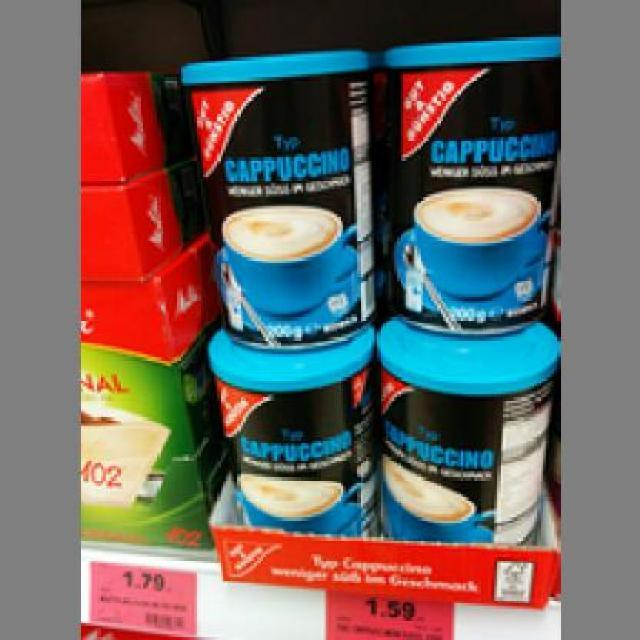Coffee: (174, 46, 377, 343), (372, 34, 558, 334), (374, 310, 554, 546), (206, 319, 372, 532)
